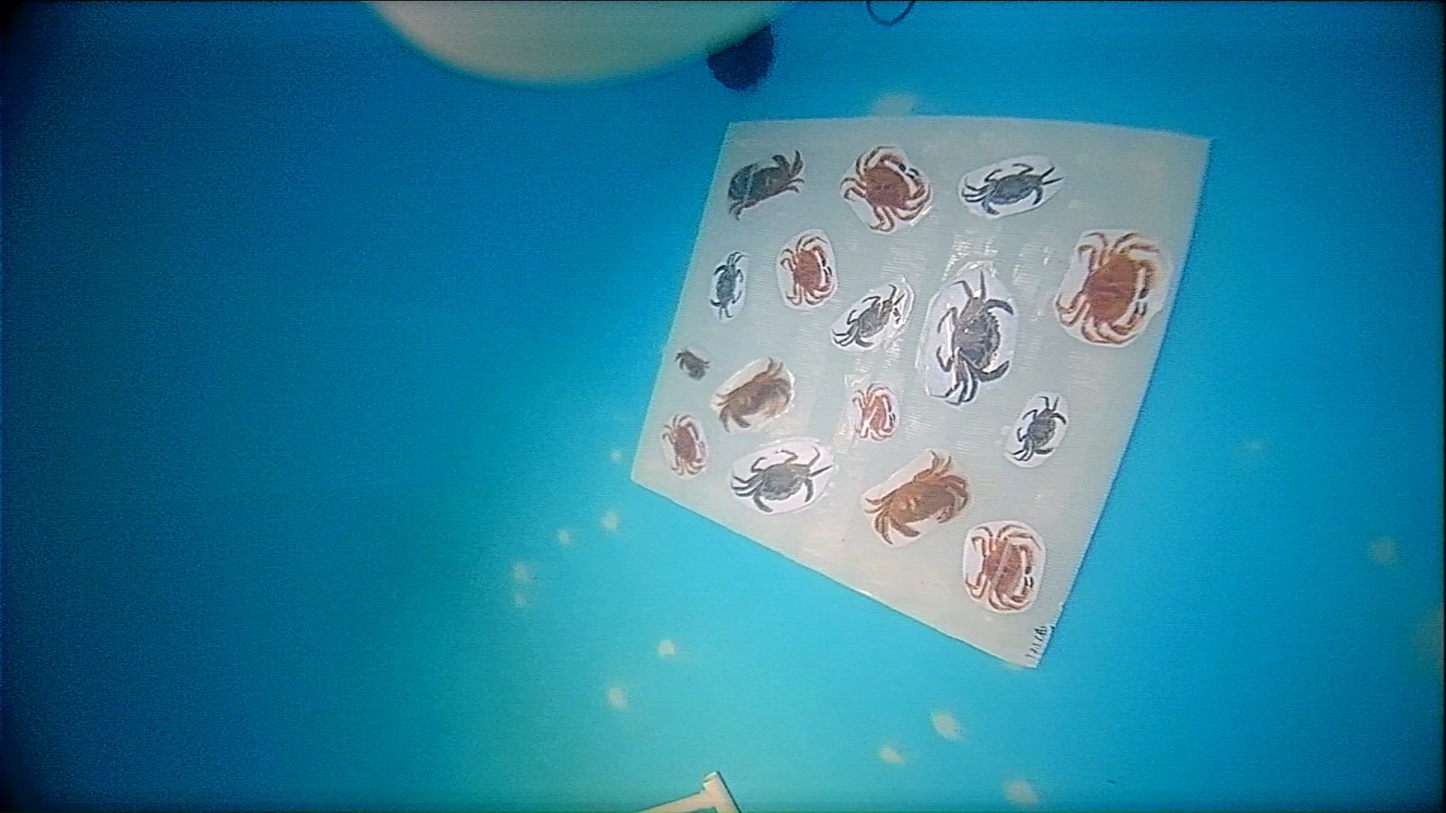GreenCrab: (935, 272, 1013, 405), (731, 449, 832, 513), (962, 162, 1063, 215), (834, 285, 901, 347), (1011, 396, 1066, 461), (709, 251, 744, 318)
